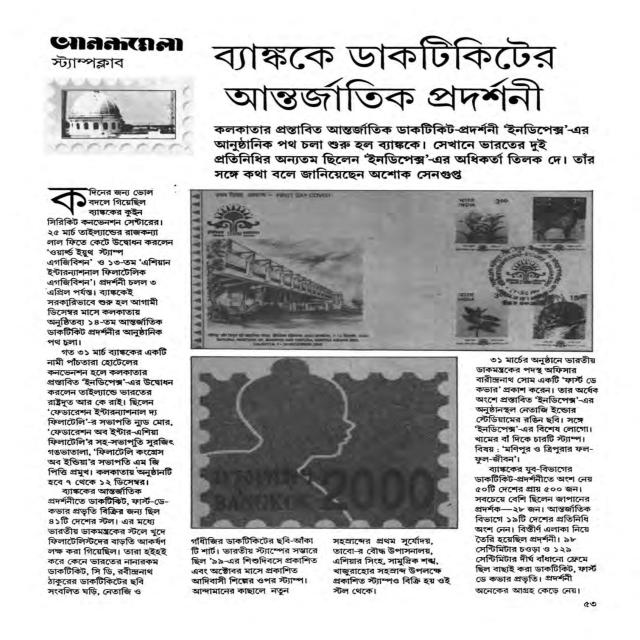image: (188, 189, 595, 353), (189, 356, 460, 530), (42, 76, 195, 154)
page number: (581, 601, 598, 608)
paragraph: (210, 120, 599, 182), (43, 186, 175, 347), (44, 346, 176, 486), (473, 464, 600, 596), (473, 354, 601, 465), (46, 486, 170, 596), (190, 535, 319, 597), (331, 535, 453, 596)
title: (208, 34, 561, 115), (48, 35, 185, 54), (49, 54, 126, 71)
